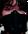with_mask: (2, 1, 28, 34)
